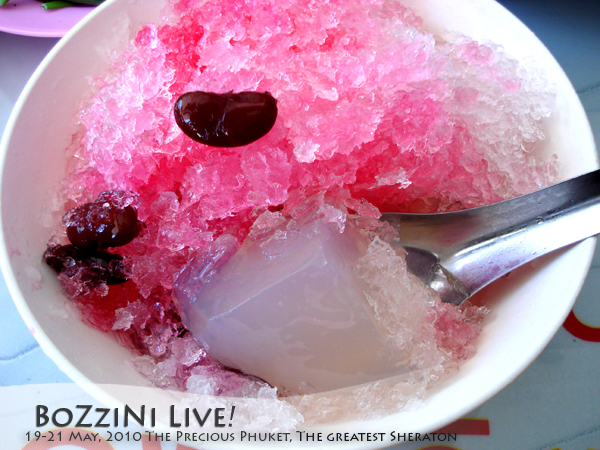O-eo: (29, 1, 596, 440)
